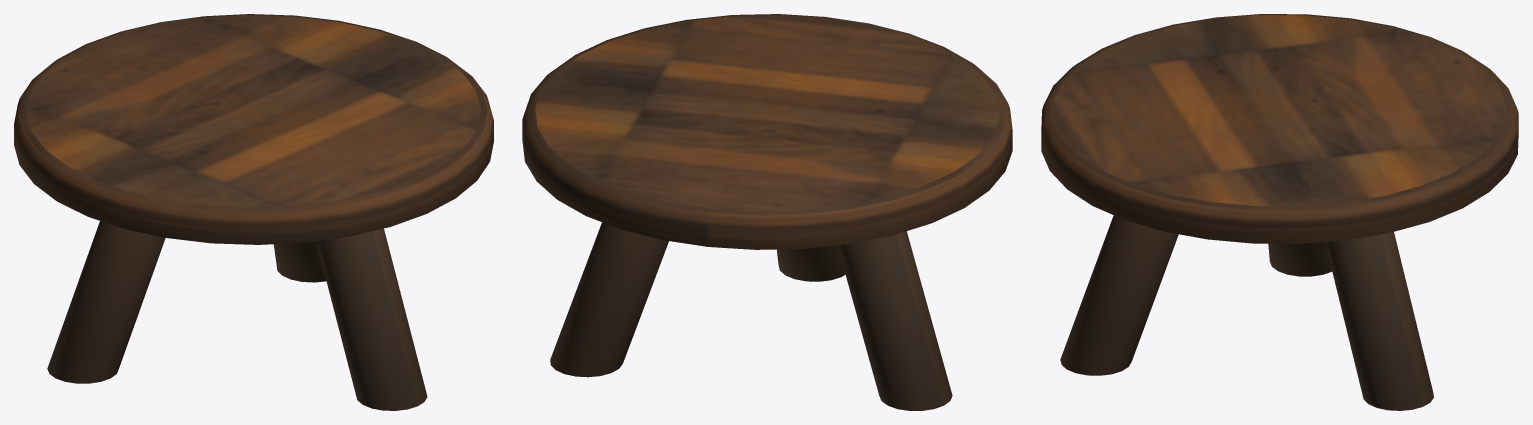
The model's file is table.glb.
3 renders of one model, left to right at view 1: azimuth 30°, elevation 25°; view 2: azimuth 150°, elevation 25°; view 3: azimuth 270°, elevation 25°, orthographic. The views are drawn at different scales.
Visible parts, largest first — view 1: stool; view 2: stool; view 3: stool.
Part boxes in pixels (<box>): stool: <box>14,14,493,410</box>; stool: <box>522,14,1012,410</box>; stool: <box>1041,14,1518,410</box>.
Bounding box in the file's own units: 0.2836 × 0.1494 × 0.2836.
Materials: 1 (1 with a texture image).
